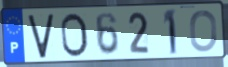1: (162, 9, 179, 56)
2: (127, 11, 150, 55)
6: (94, 12, 120, 57)
O: (59, 12, 91, 59), (189, 9, 219, 53)
V: (26, 12, 56, 60)
